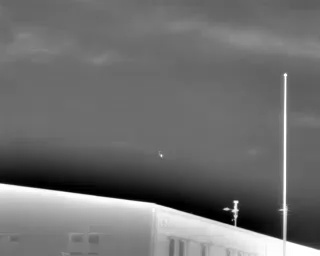HELICOPTER: (156, 150, 166, 162)
